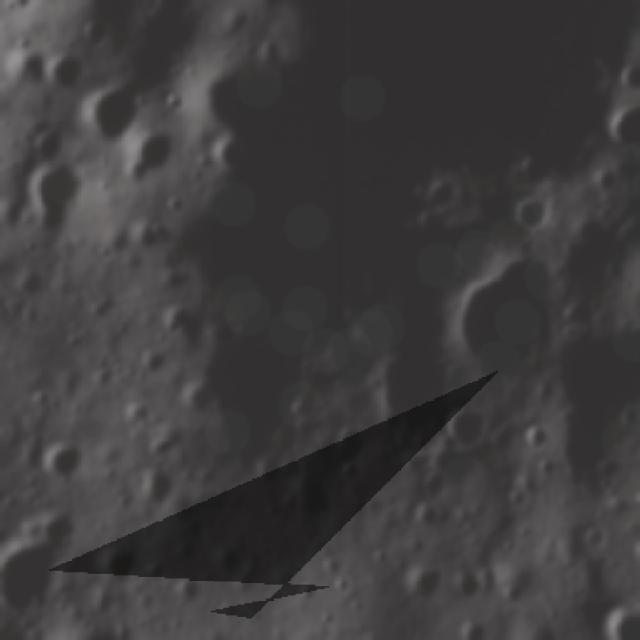crater: (440, 256, 574, 386), (0, 505, 83, 617), (17, 164, 88, 233), (73, 91, 147, 138), (137, 463, 178, 514), (127, 137, 178, 178), (96, 543, 142, 588), (506, 196, 556, 236), (396, 564, 444, 604), (176, 382, 224, 422), (34, 444, 88, 478), (441, 412, 482, 454), (594, 606, 640, 640), (601, 104, 640, 144), (134, 349, 172, 388), (137, 215, 175, 254), (172, 576, 212, 610), (46, 627, 148, 640), (48, 57, 88, 89), (158, 306, 192, 343), (73, 19, 119, 46), (578, 218, 610, 256), (117, 400, 155, 431), (334, 424, 363, 464), (248, 454, 288, 483), (420, 179, 468, 203), (28, 132, 62, 165), (14, 272, 49, 303), (254, 37, 286, 69), (450, 570, 484, 598), (409, 212, 451, 234), (456, 617, 495, 640), (410, 502, 442, 530), (611, 62, 640, 92), (579, 528, 613, 552), (215, 551, 247, 575), (283, 397, 312, 423), (524, 422, 548, 452), (28, 390, 58, 412), (312, 609, 343, 629), (592, 170, 620, 192), (292, 583, 316, 608), (294, 352, 318, 377), (534, 457, 558, 481), (507, 489, 530, 511), (0, 29, 12, 69), (367, 548, 391, 568), (629, 536, 640, 578), (332, 577, 353, 598), (3, 0, 34, 14), (497, 538, 518, 554), (629, 489, 640, 511), (0, 151, 8, 174), (635, 443, 640, 463), (115, 0, 159, 2), (635, 0, 640, 8)
